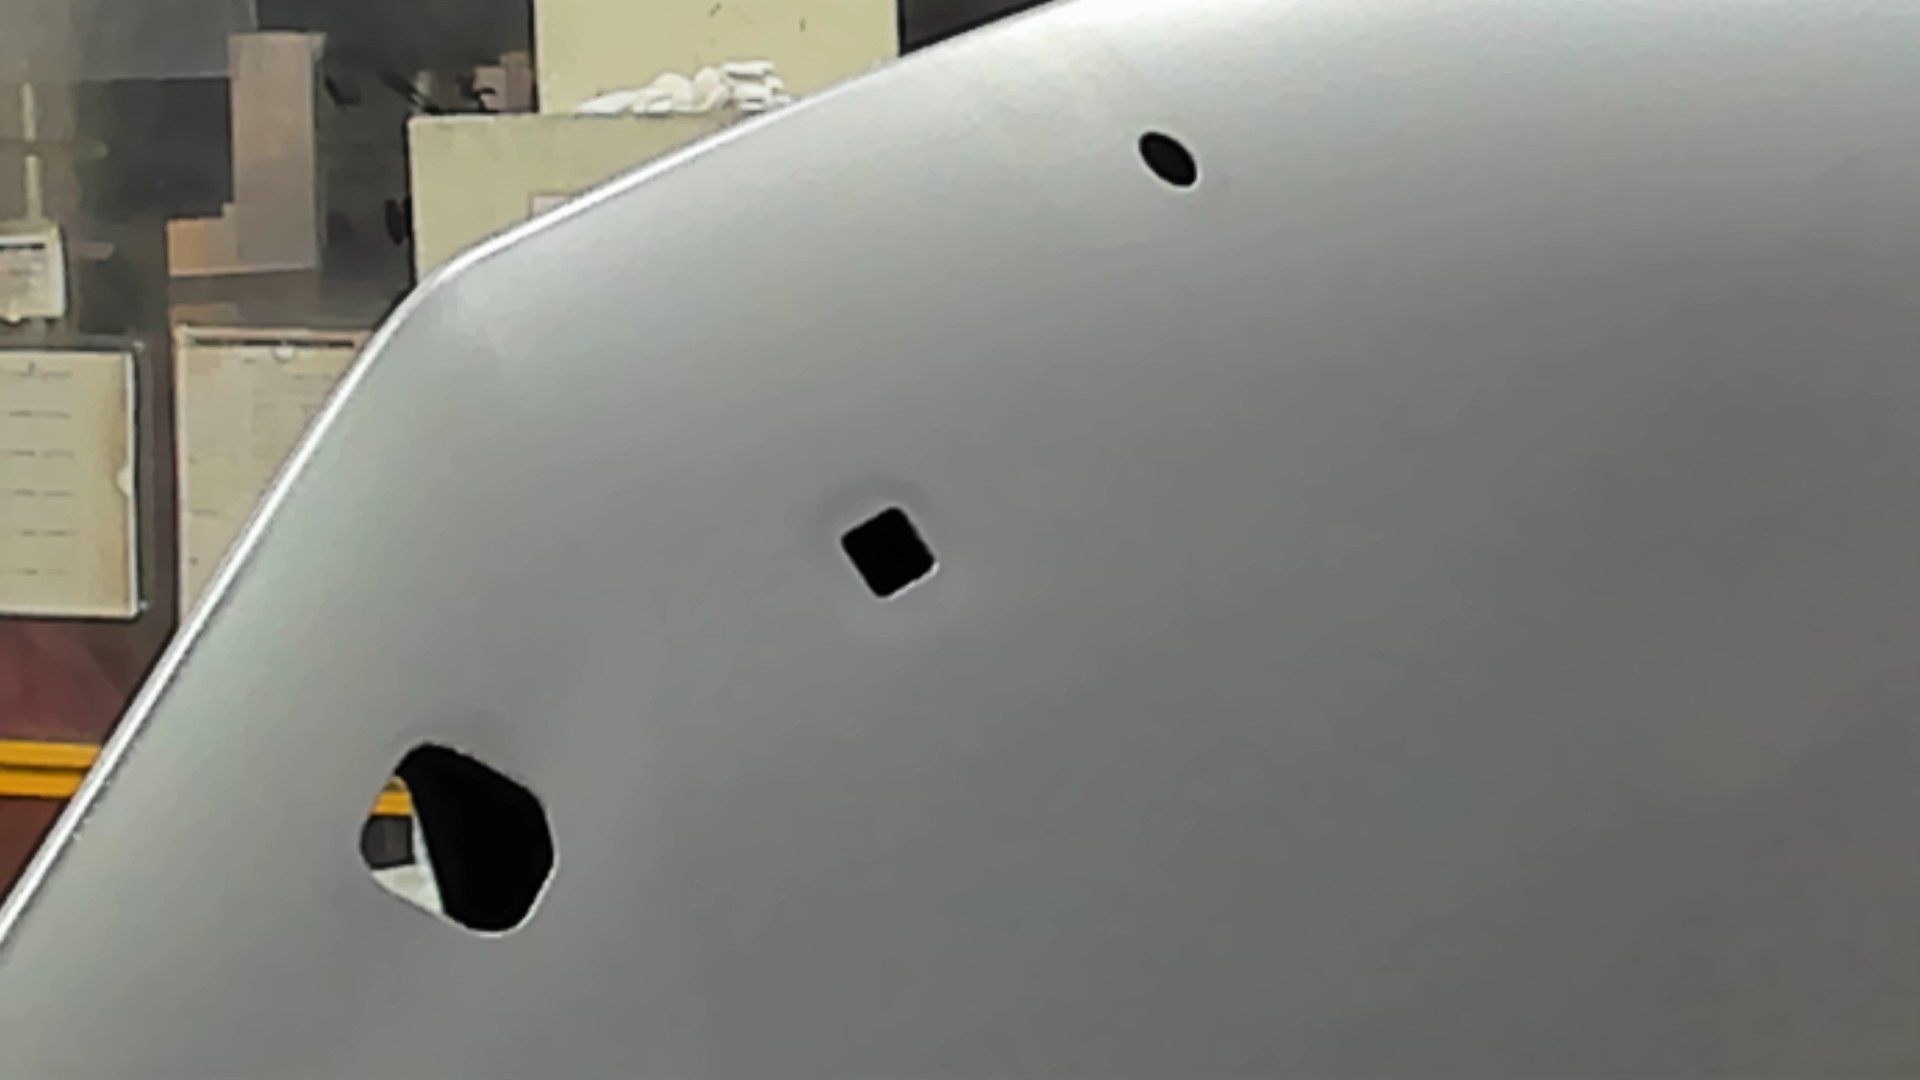chico: (1130, 123, 1203, 190)
grande: (343, 733, 564, 945)
mediano: (827, 498, 942, 607)
